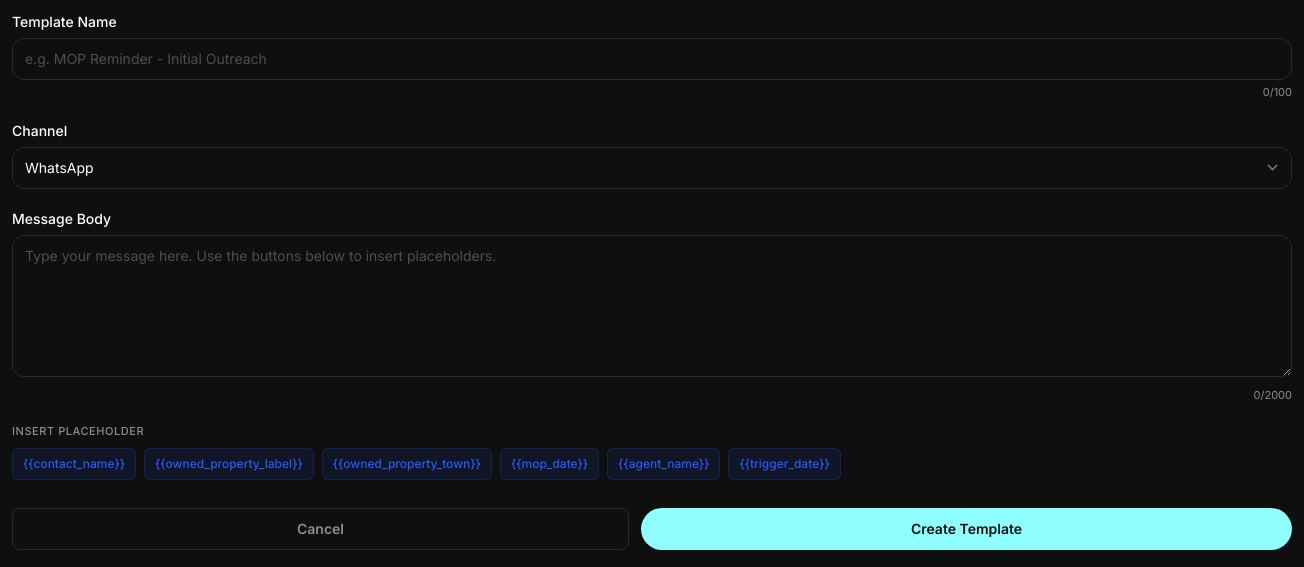
Test: TemplateForm › inserts placeholder into body when button is clicked
This screenshot has width=1304, height=567.
Replace the text in the text box labelled "Message Body" with "Hello " at (652, 306), box x1=12 y1=234 x2=1292 y2=376
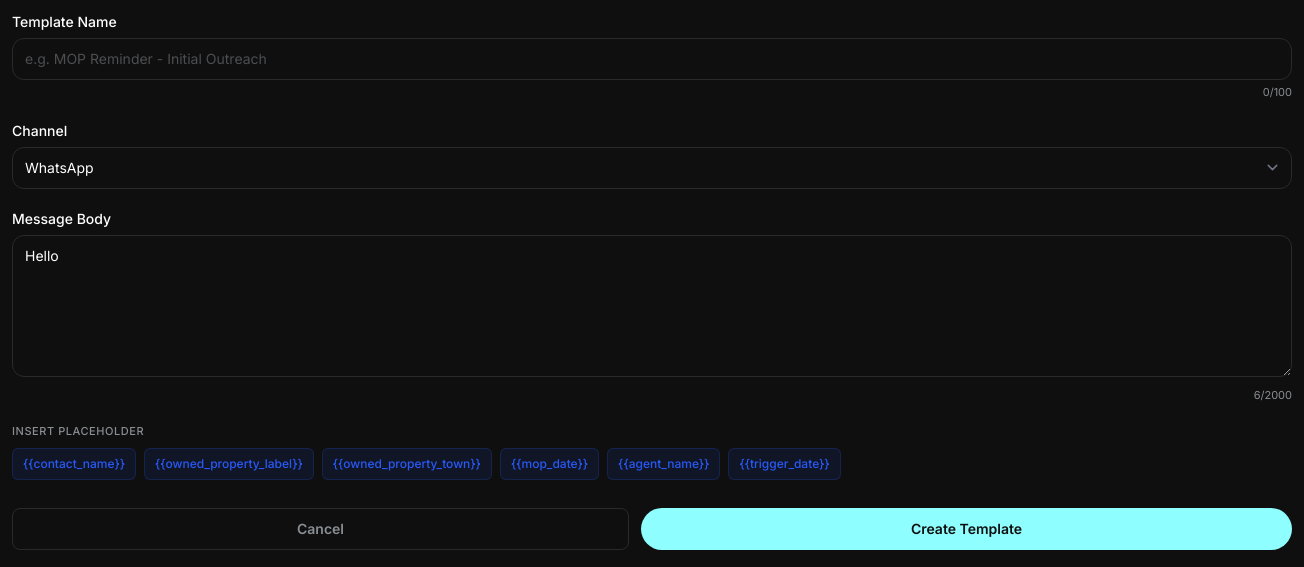
Click the button with aria-label "Insert Contact Name placeholder" at (74, 464), box x1=12 y1=448 x2=136 y2=480
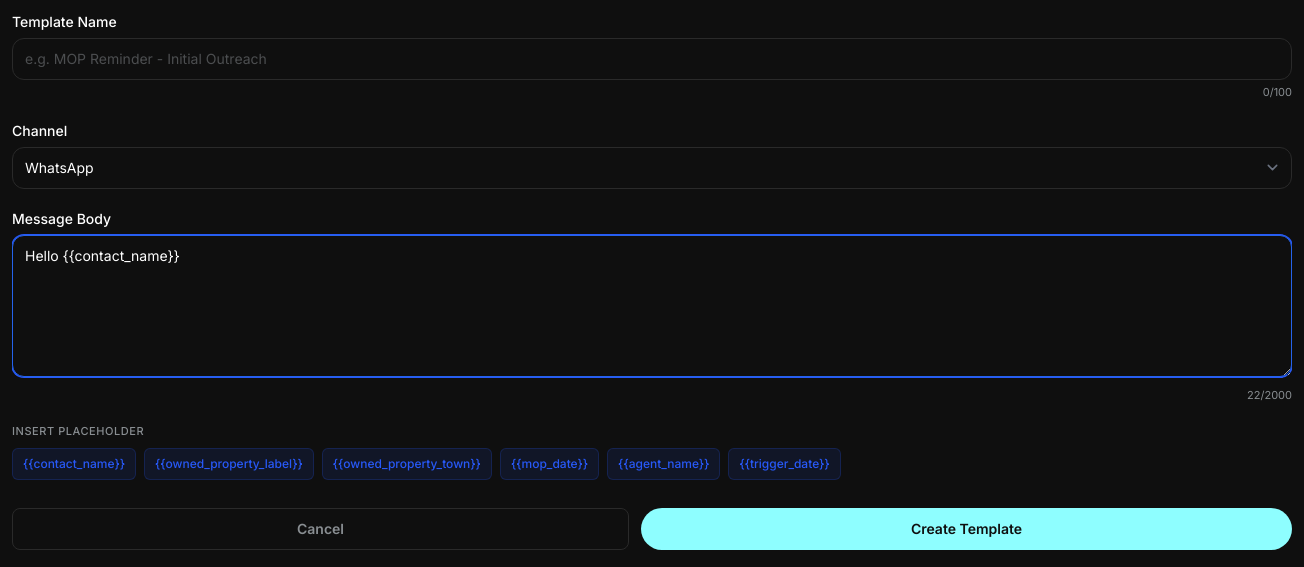
Expected: the text box labelled "Message Body" holds "Hello {{contact_name}}", x1=12 y1=234 x2=1292 y2=376
